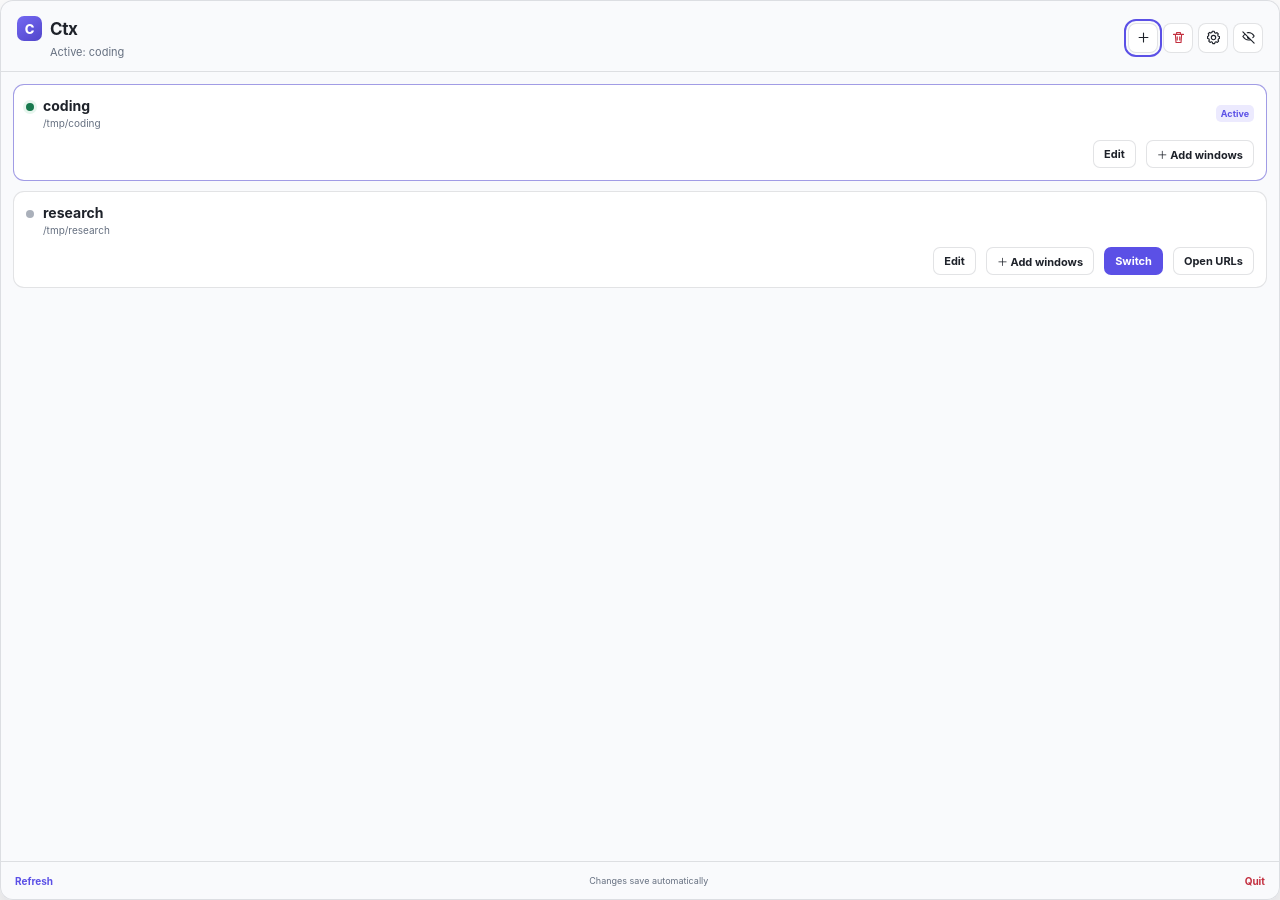
Scenario: Ctx popover › restores focus after dismissing a lightweight sheet with Escape
Expected: the heading "coding" is shown, x1=43 y1=97 x2=90 y2=114
Click the button named "Create context" at (1143, 38), box x1=1128 y1=22 x2=1158 y2=52
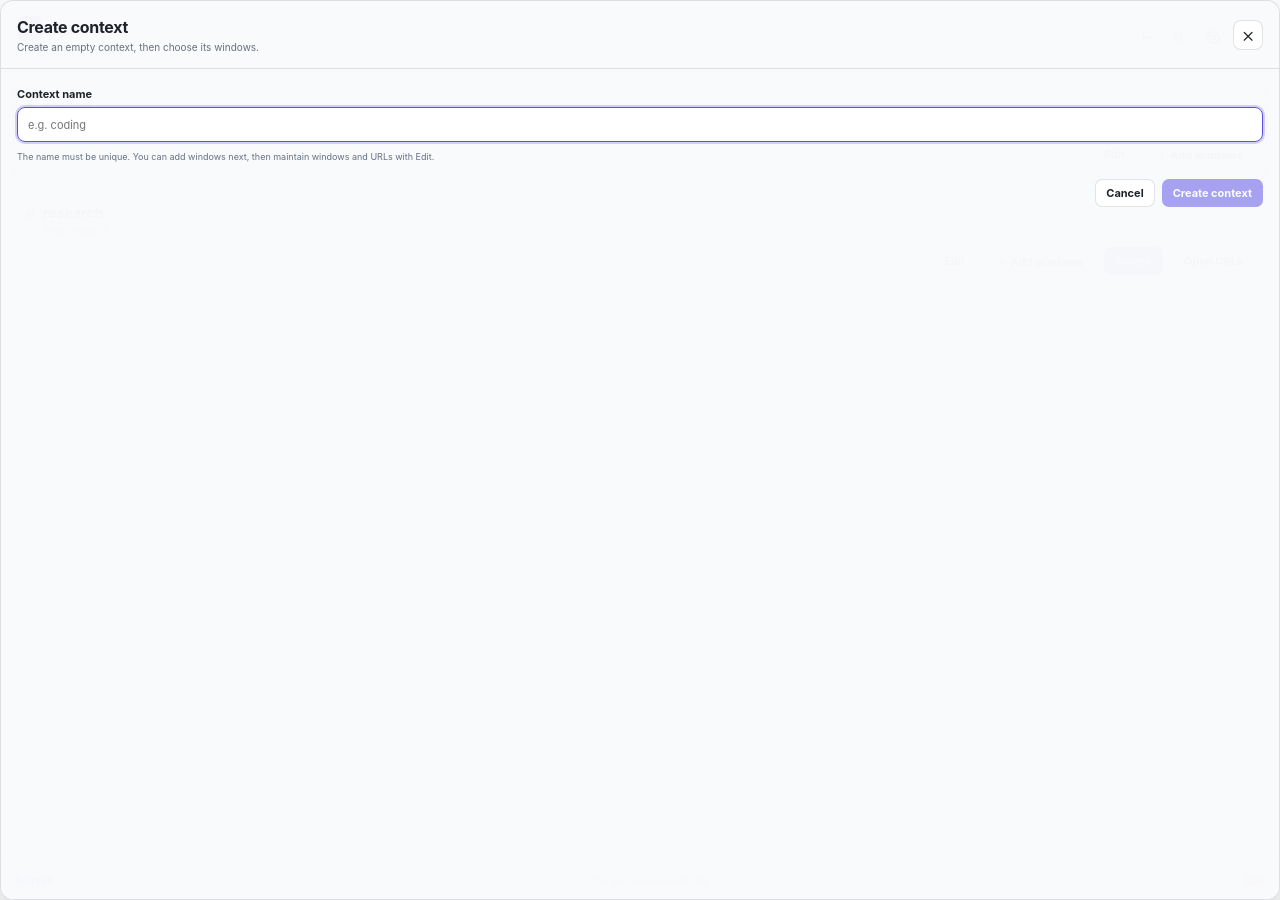
Press Escape in the dialog "Create context"
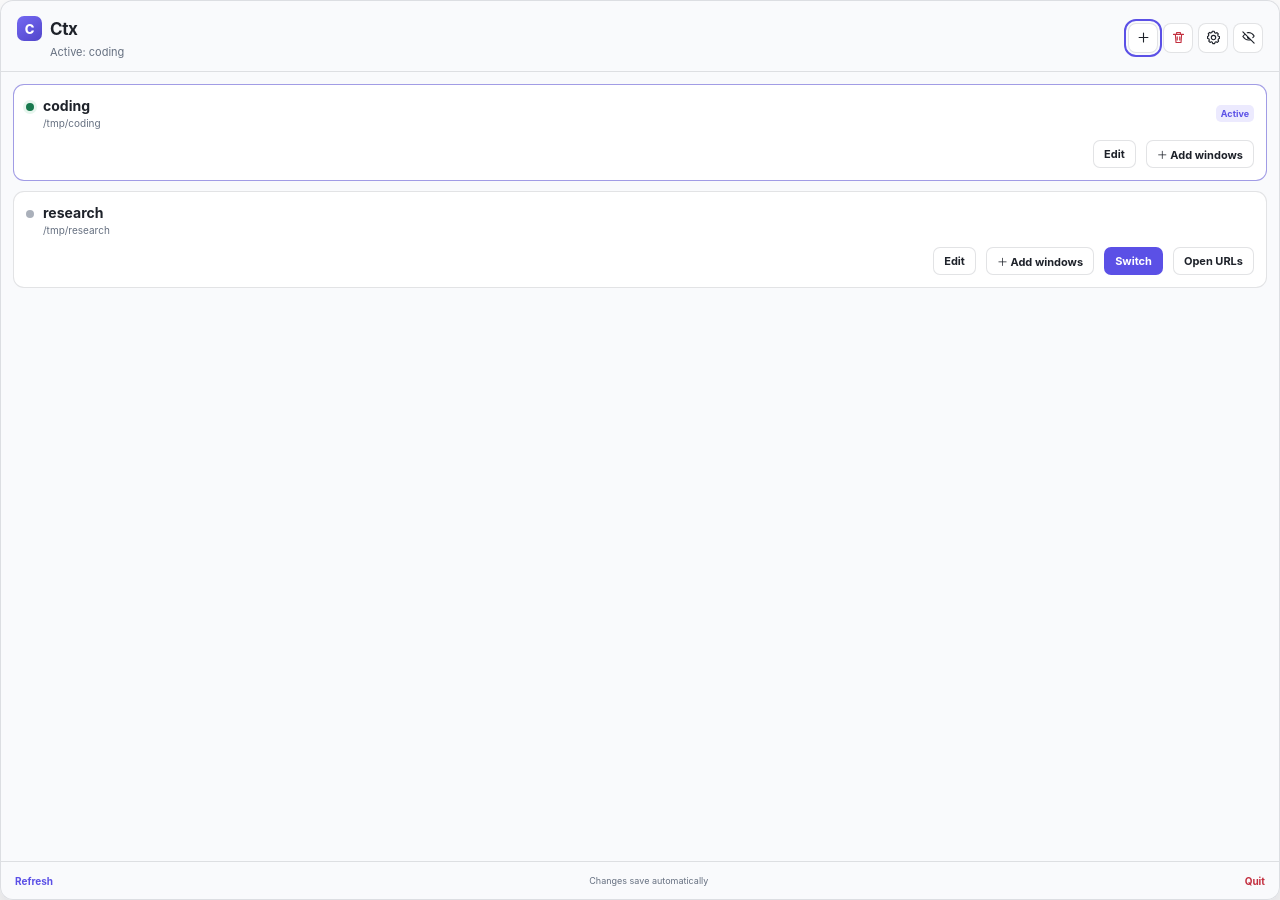
Now the heading "Create context" is gone
